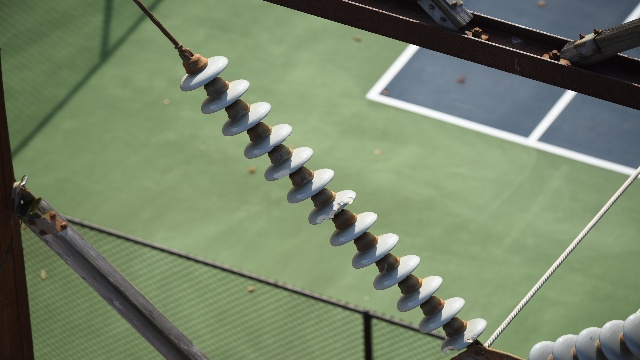broken_local: (313, 194, 357, 227), (441, 332, 482, 354), (273, 166, 293, 179)
insulator_unspecified: (180, 53, 485, 354), (528, 303, 639, 359)
